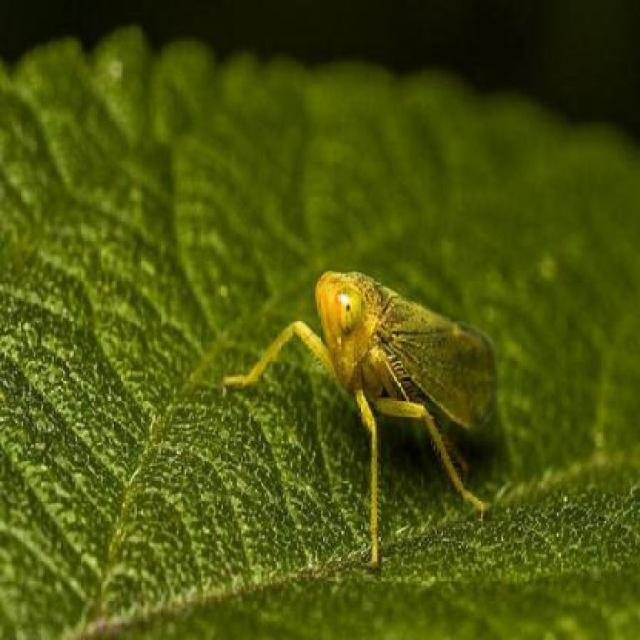green-leafhopper: (222, 265, 503, 553)
